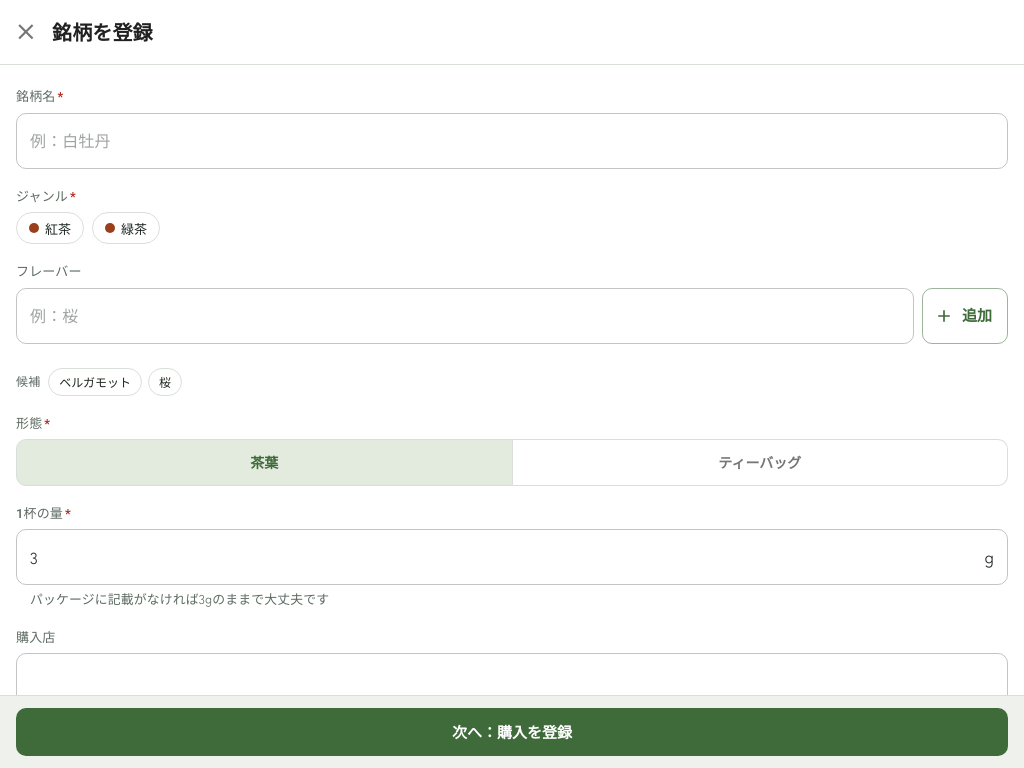
Test case: SC-04 銘柄を登録 › ティーバッグは1杯の量の入力欄を出さず、1個で登録する
The image size is (1024, 768).
Step 1. Type "JAFTEA" into the field named "銘柄名" → {"x": 512, "y": 140}, box left=16, top=112, right=1008, bottom=168
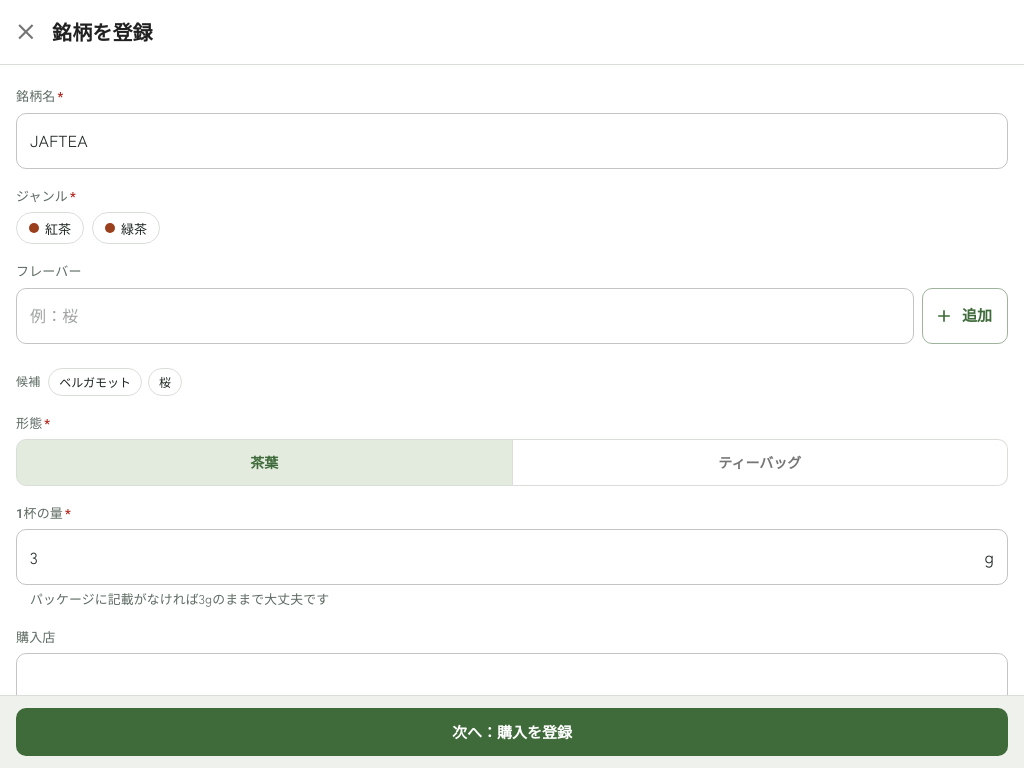
Step 2. Click the radio button labelled "紅茶" → {"x": 50, "y": 228}, box left=16, top=212, right=84, bottom=244
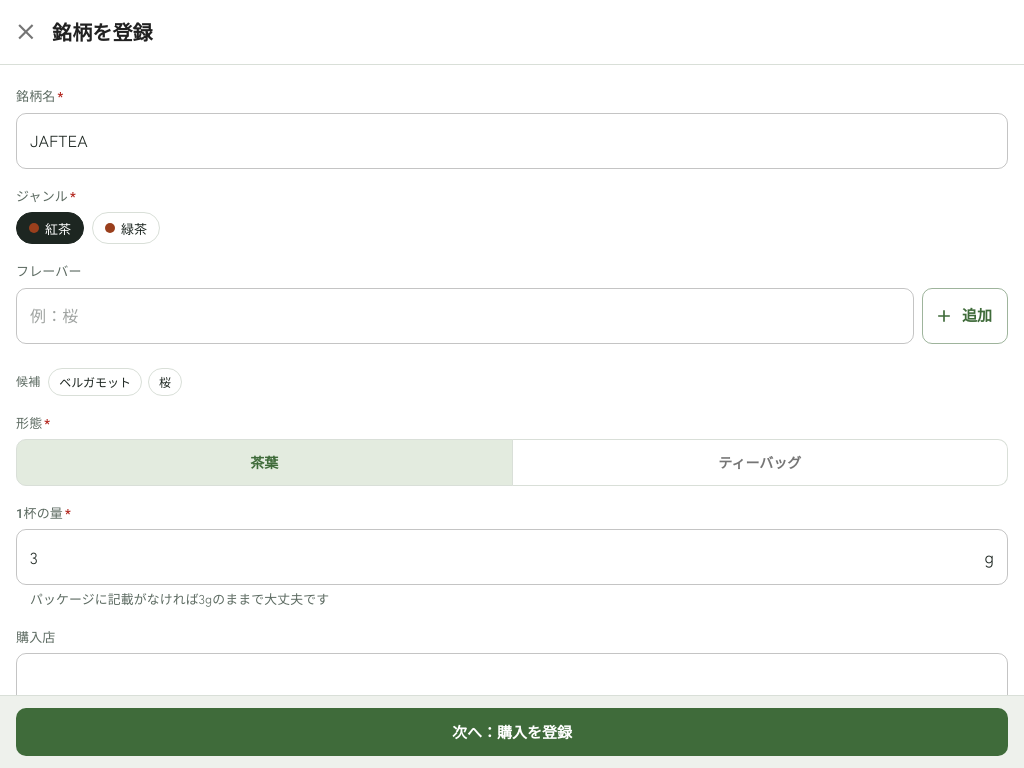
Step 3. Click the button "ティーバッグ" → {"x": 760, "y": 463}, box left=512, top=439, right=1008, bottom=486
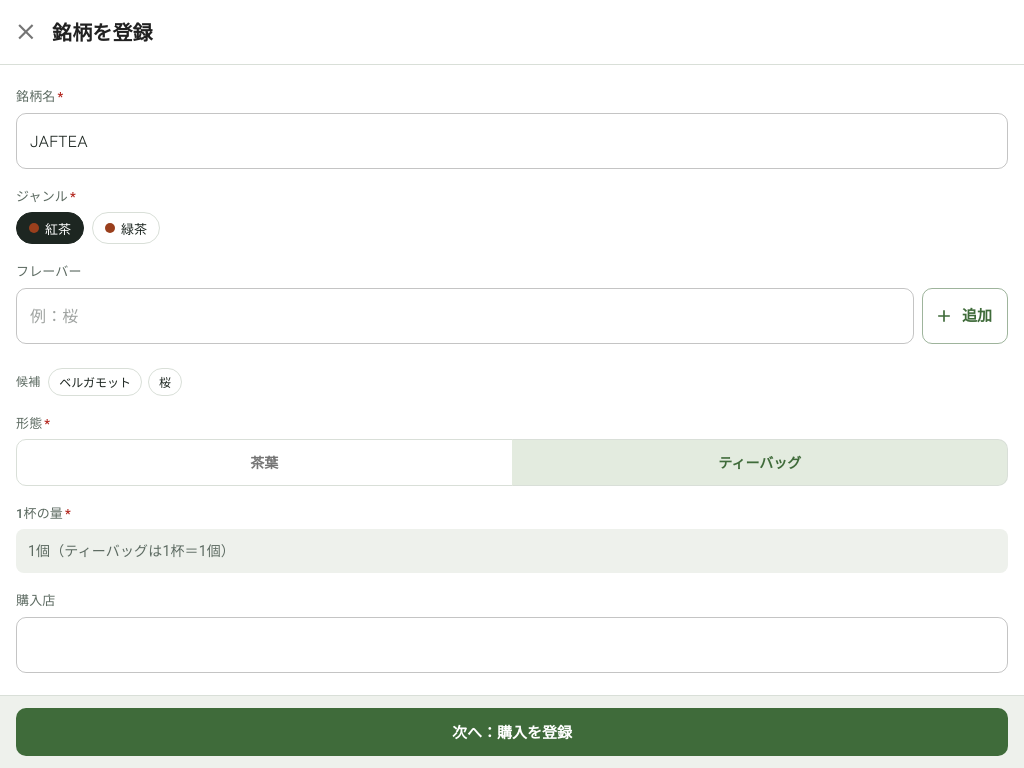
Result: the text "1個（ティーバッグは1杯＝1個）" is shown at left=16, top=529, right=1008, bottom=573
Result: the number field labelled "1杯の量（g）" is gone
Step 4. Click the button "次へ：購入を登録" → {"x": 512, "y": 732}, box left=16, top=708, right=1008, bottom=756
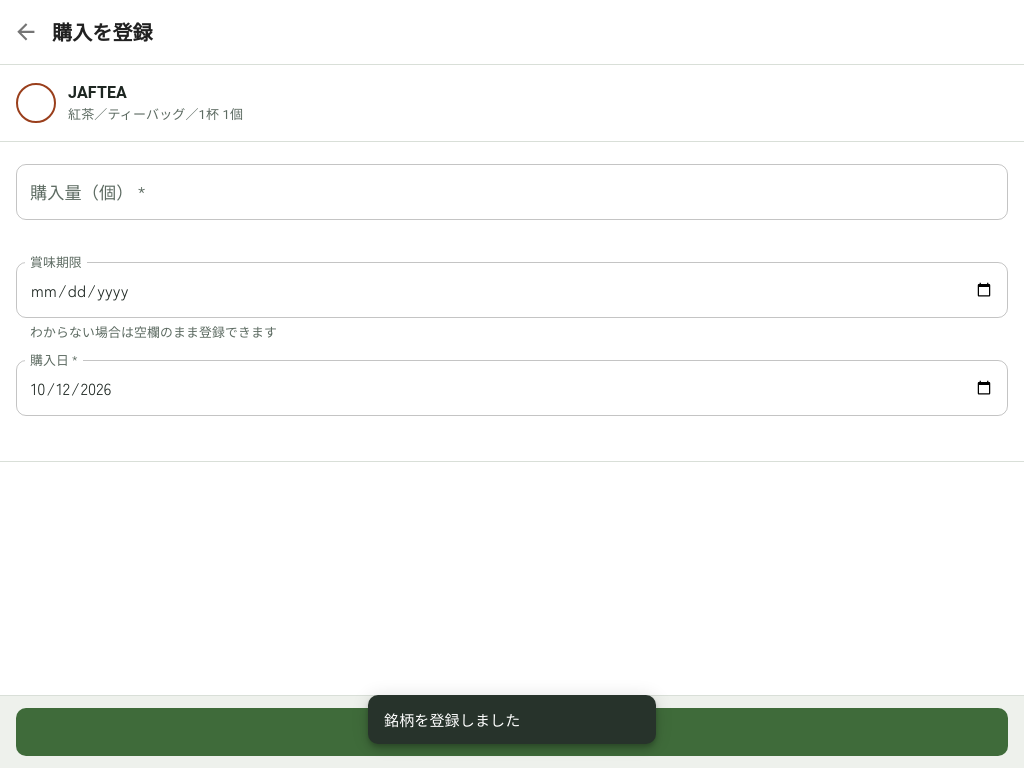
Result: the text "銘柄を登録しました" is shown at left=384, top=709, right=520, bottom=730
